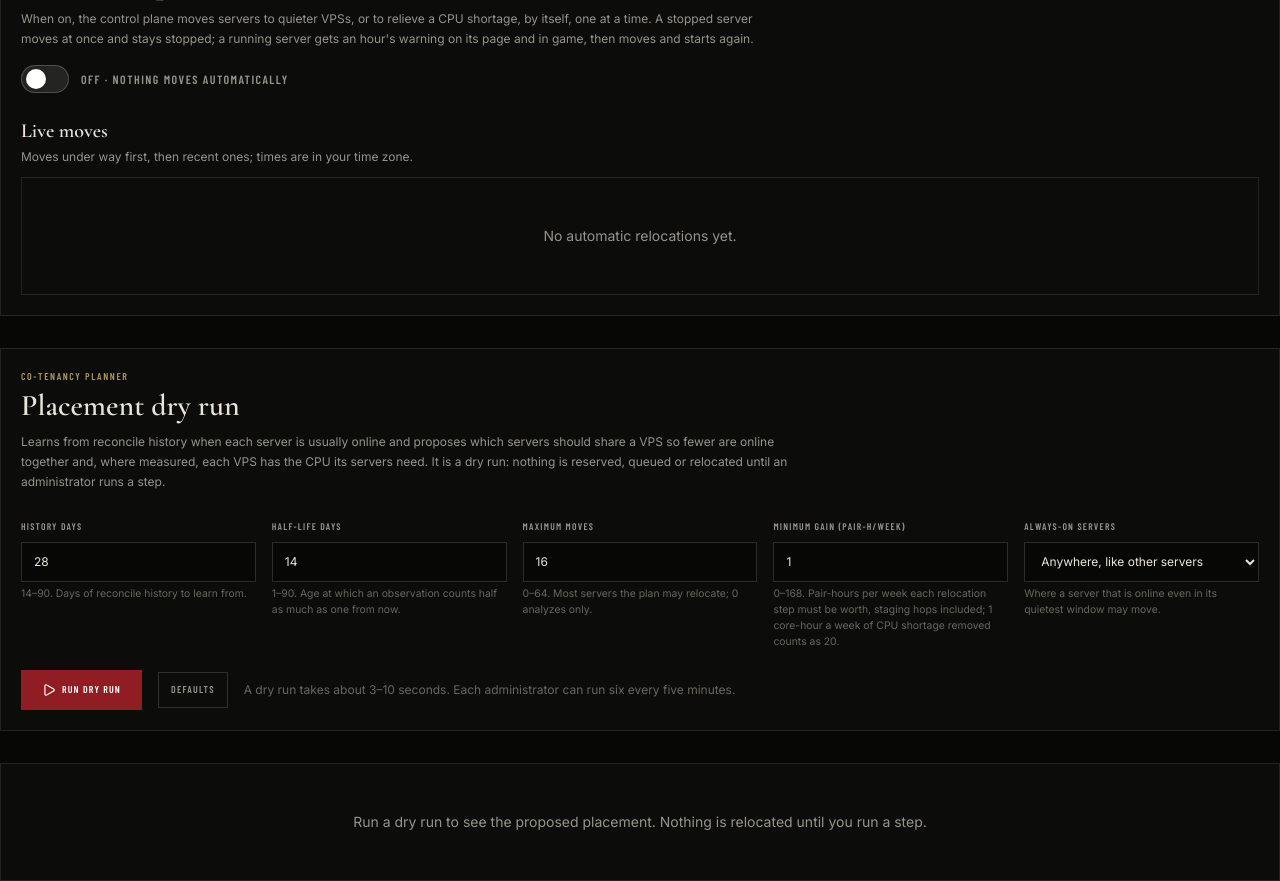
Test: explains a rate-limited dry run and keeps the form usable
(page scrolled)
Step 1. Click the button "Run dry run" → (82, 690), box top-left (21, 670), bottom-right (142, 710)
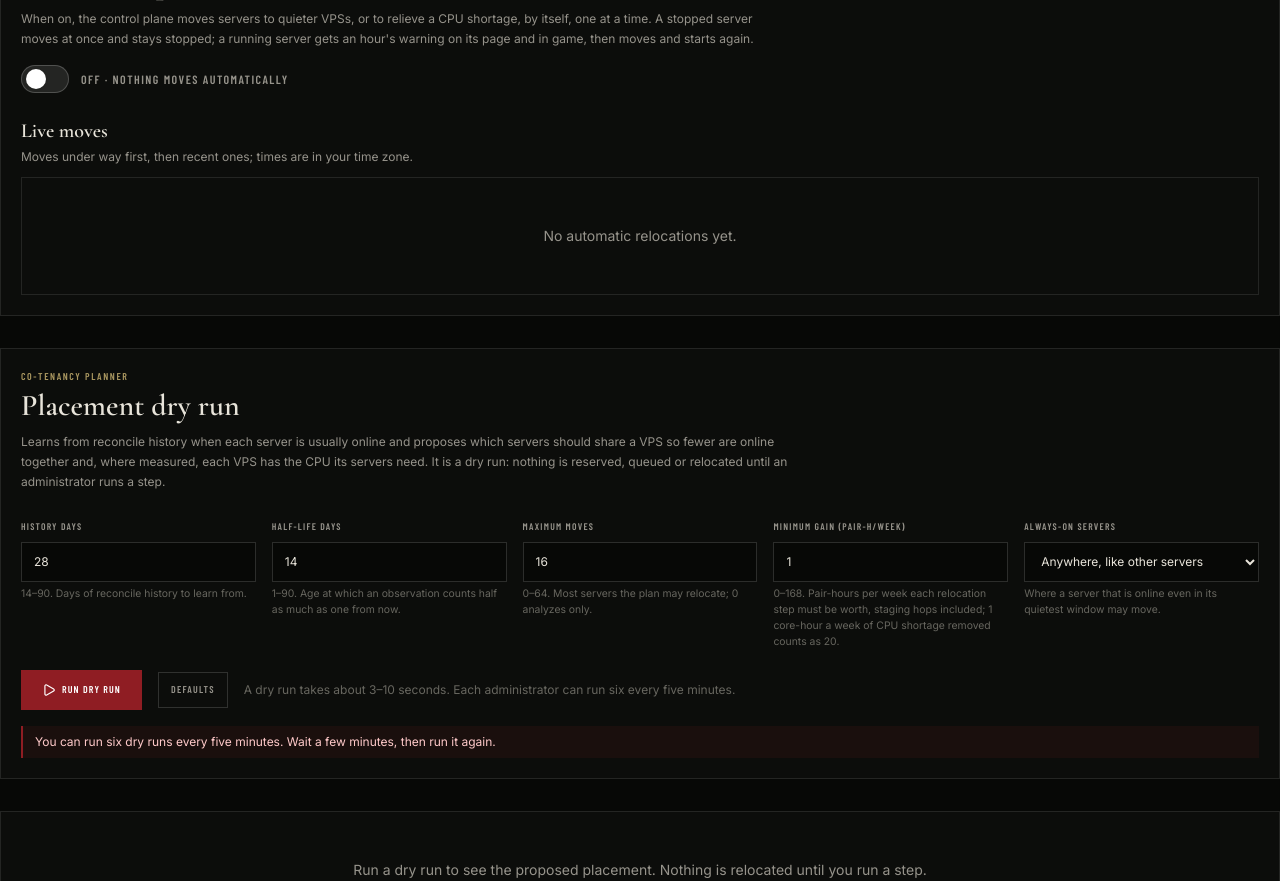
Now the message shows "You can run six dry runs every five minutes. Wait a few minutes, then run it again.", box top-left (35, 734), bottom-right (496, 749)
